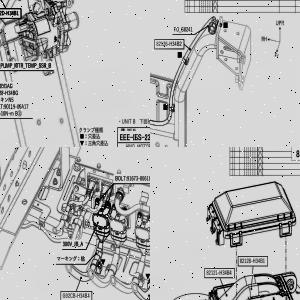PartNumber: (4, 103, 29, 110), (156, 41, 182, 47), (206, 270, 232, 276), (240, 258, 265, 264), (62, 293, 90, 298), (127, 175, 150, 180), (0, 10, 18, 16), (0, 90, 18, 96)
